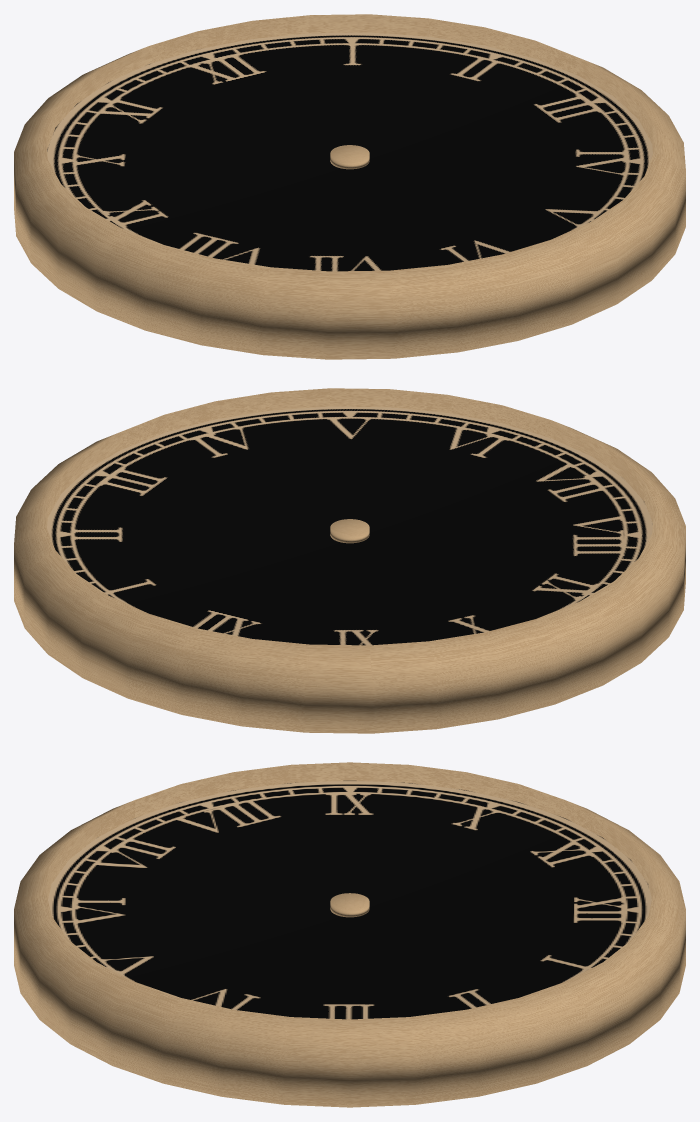
The model's file is blondeblackclock.gltf.
3 views of the same model, one above another, from view 1: azimuth 30°, elevation 25°; view 2: azimuth 150°, elevation 25°; view 3: azimuth 270°, elevation 25° (orthographic).
Visible parts, largest first — view 1: Cylinder, Cylinder.001; view 2: Cylinder, Cylinder.001; view 3: Cylinder, Cylinder.001.
Part boxes in pixels (x1,y1,x2,y2): Cylinder: (14, 14, 685, 359); Cylinder.001: (330, 145, 369, 169); Cylinder: (14, 388, 685, 733); Cylinder.001: (330, 519, 369, 543); Cylinder: (14, 762, 685, 1107); Cylinder.001: (330, 893, 369, 917).
Bounding box in the file's own units: 0.0314 × 0.00384 × 0.0314.
Materials: 2 (2 with a texture image).
